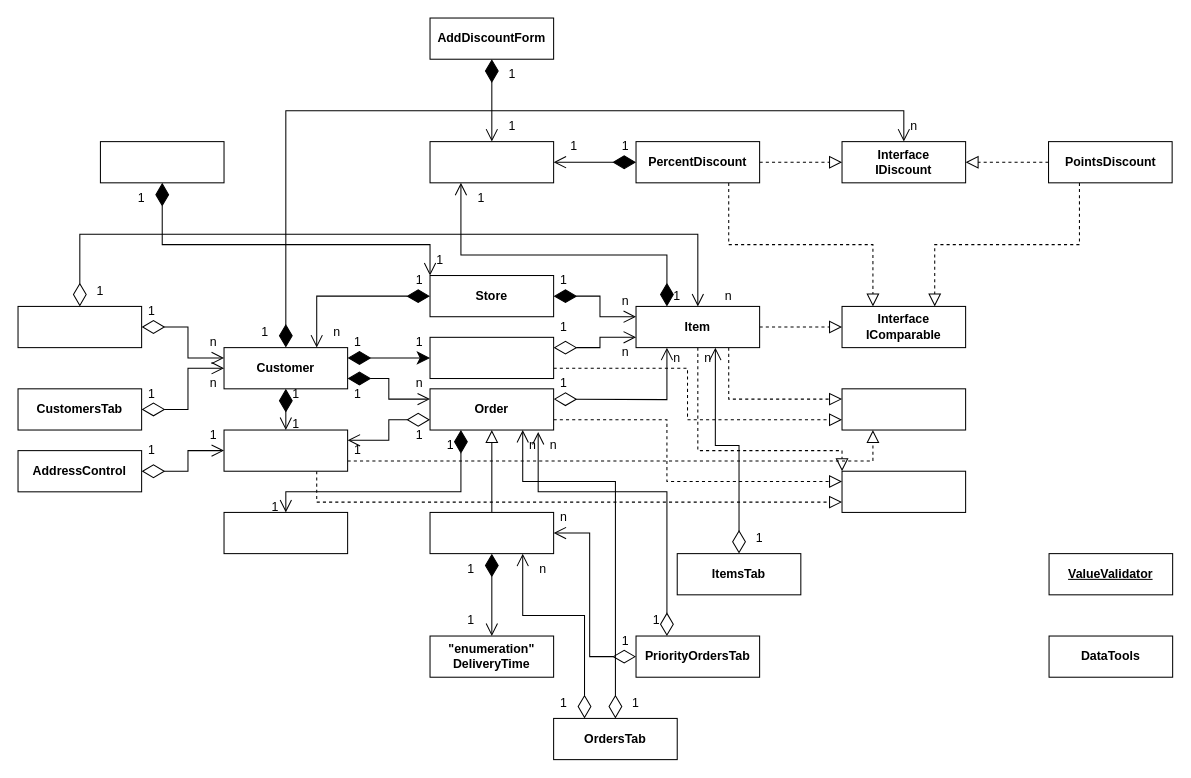
Some shapes in this 1191 by 778 pixel diagram are drawn without their labels. The shapes that lost their labels are listed below. From the top down, each one's centre as x and y in pixels, then its label:
(x=161, y=162): Mainform
(x=491, y=162): "enumeration" Category
(x=79, y=326): CartsTab
(x=491, y=357): Cart
(x=903, y=409): Interface IClonable
(x=285, y=450): Address
(x=903, y=491): Interface IEquatable
(x=285, y=532): "enumeration" OrderStatus
(x=491, y=532): PrioritiOrder
